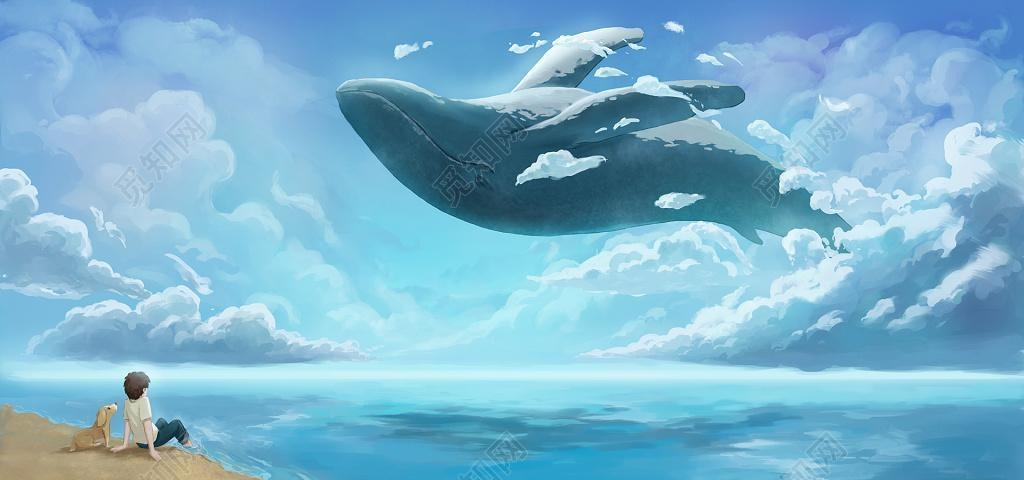fish: (326, 26, 861, 253)
